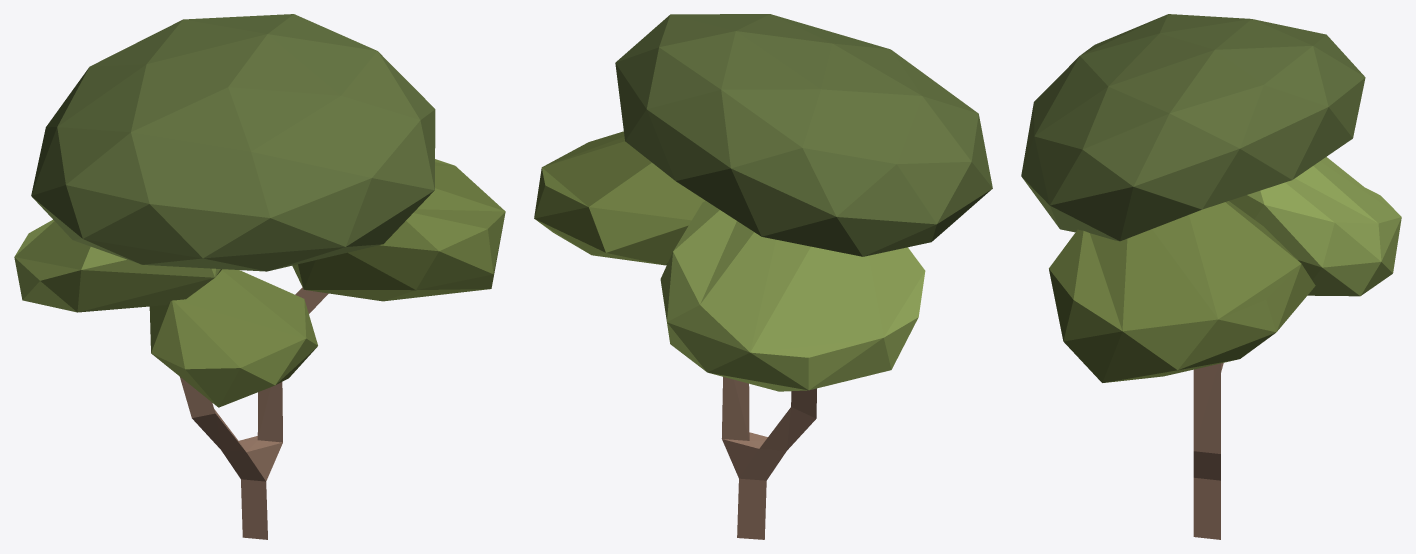
File: tree_0302.dae
The picture shows the model from 3 angles, left to right: view 1: azimuth 30°, elevation 25°; view 2: azimuth 150°, elevation 25°; view 3: azimuth 270°, elevation 25°; orthographic projection. The views are drawn at different scales.
Visible parts, largest first — view 1: tree_0302; view 2: tree_0302; view 3: tree_0302.
Boxes of the visible parts, x1,y1,x2,y2 form: tree_0302: (14,14,505,539); tree_0302: (534,14,992,539); tree_0302: (1021,14,1401,539).
Bounding box in the file's own units: 2.35 × 1.87 × 2.67.
